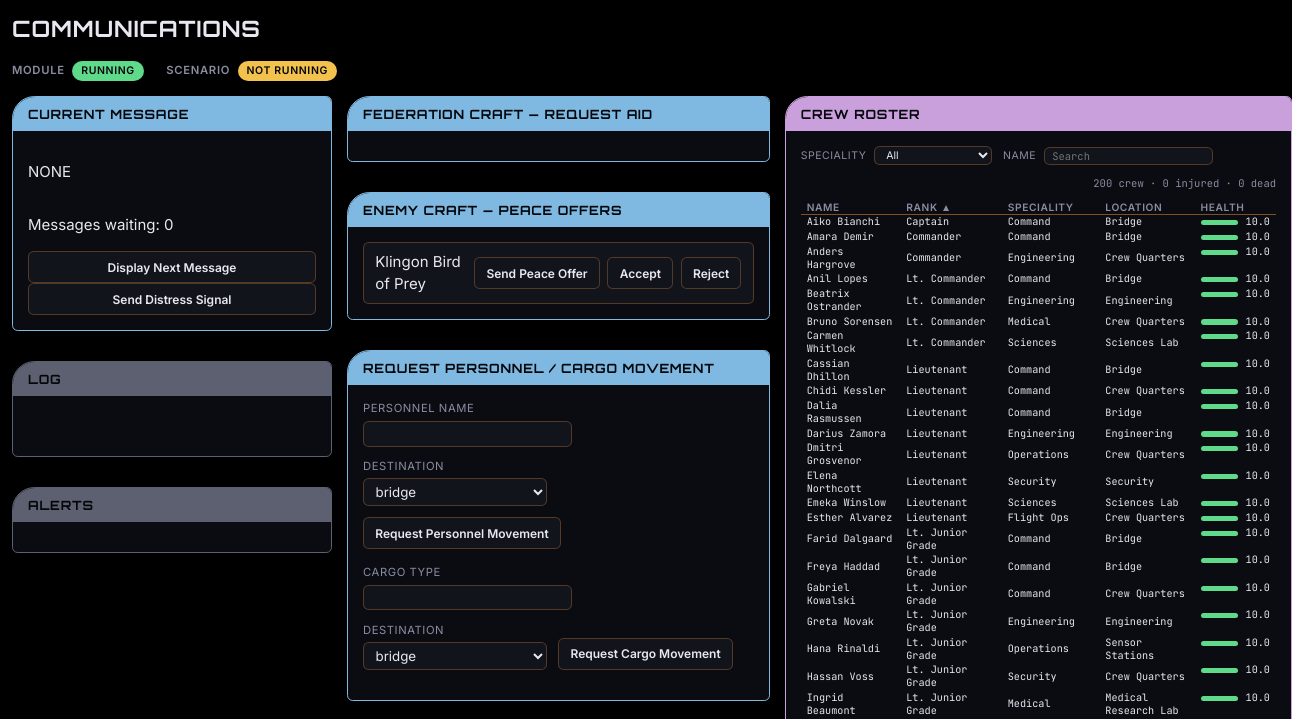
Test case: CommunicationsStation › sends a peace offer to a listed enemy craft by clicking its button (point-and-click, no typed command)
What coordinates should you click on to do the following:
click the button with test id "send-peace-offer-Klingon Bird of Prey"
I would click on:
 (537, 273)
Its box is [474,257,600,289].
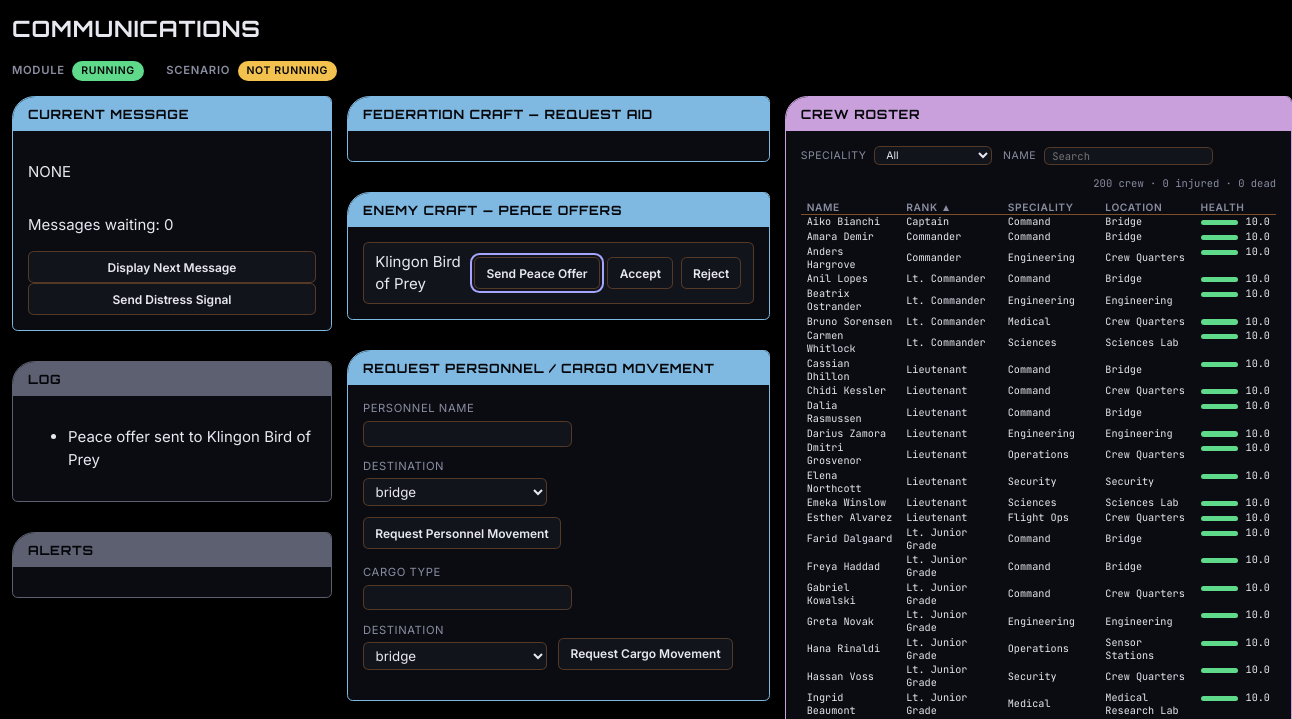
Check: the list with test id "comms-log" shows "Klingon Bird of Prey", box [68,427,311,469]
